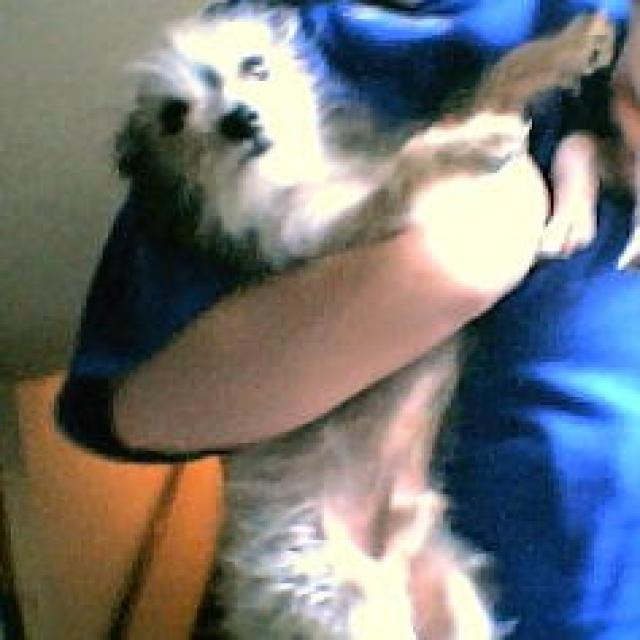dog-yorkshire_terrier: (116, 3, 618, 275)
